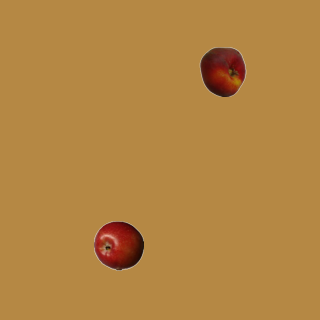Apple Braeburn: (93, 220, 143, 270)
Nectarine Flat: (197, 46, 247, 96)
